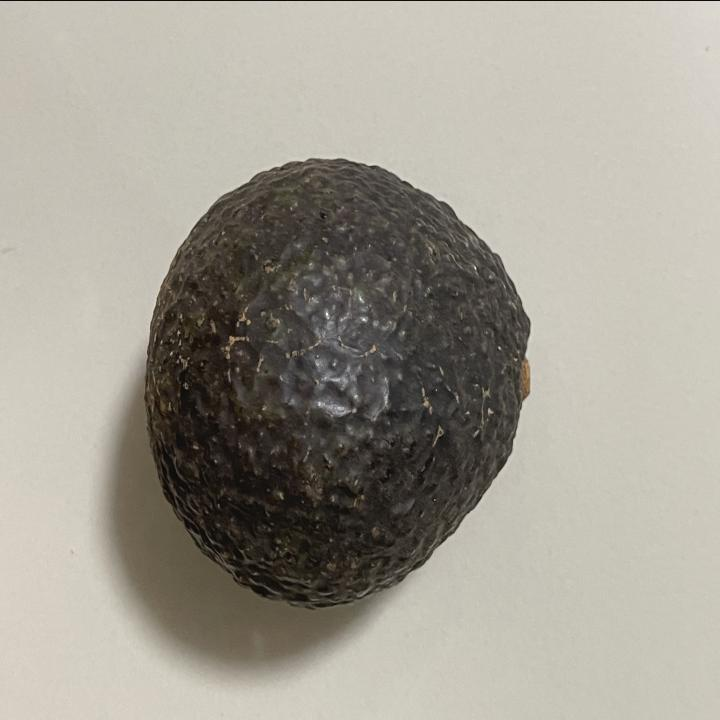Level1: (134, 136, 542, 622)
